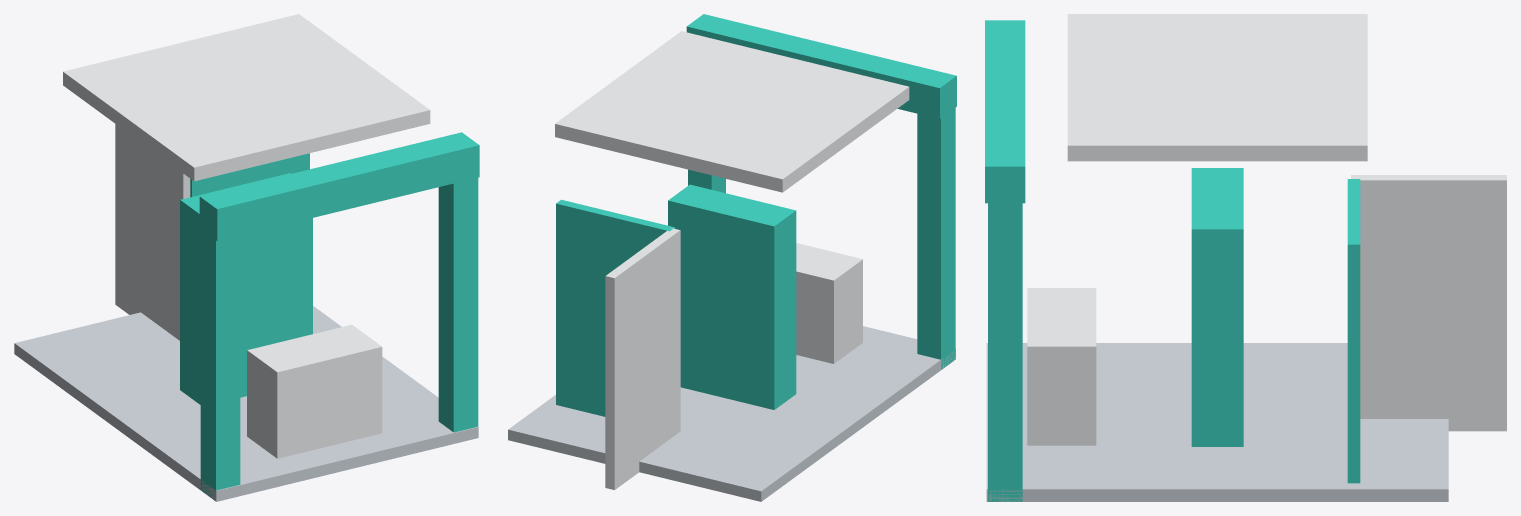
3 renders of one model, left to right at view 1: azimuth 30°, elevation 25°; view 2: azimuth 150°, elevation 25°; view 3: azimuth 270°, elevation 25°, orthographic. The views are drawn at different scales.
Parts seen in each view (by area): view 1: Exhibition Booth Concept; view 2: Exhibition Booth Concept; view 3: Exhibition Booth Concept.
Boxes of the visible parts, x1,y1,x2,y2 form: Exhibition Booth Concept: (14,14,479,501); Exhibition Booth Concept: (508,14,956,501); Exhibition Booth Concept: (985,14,1506,501).
Size of the model in its own units: 3 by 3.34 by 4.52.
